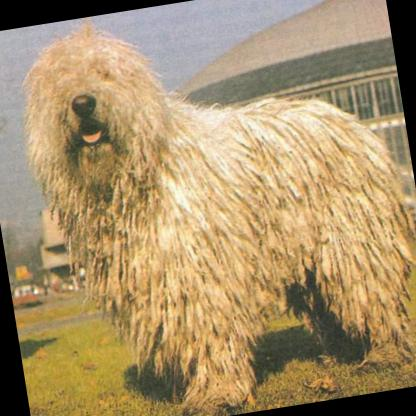komondor: (6, 0, 416, 416)
